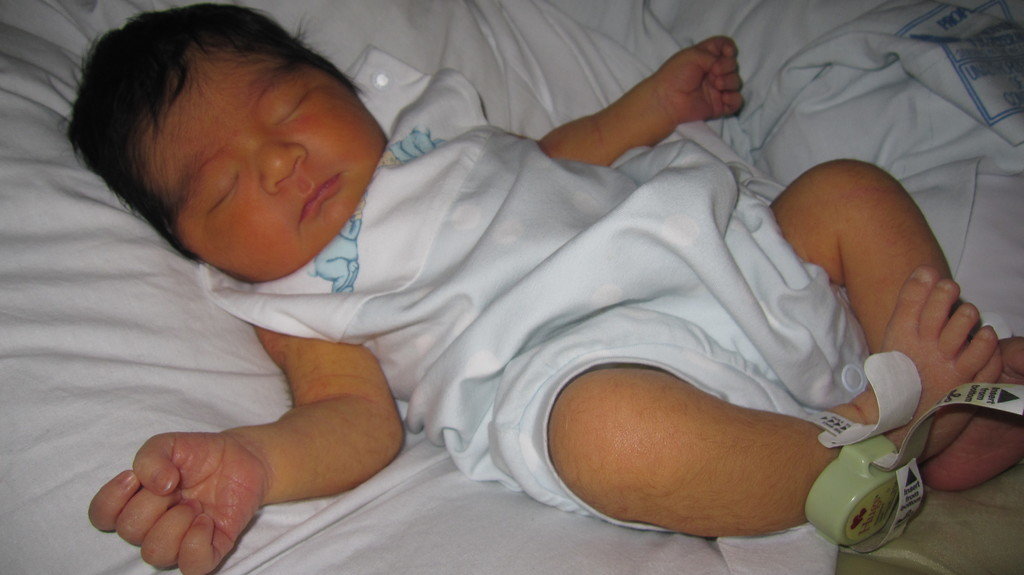Human_hand: (91, 428, 266, 574), (659, 37, 750, 123)
